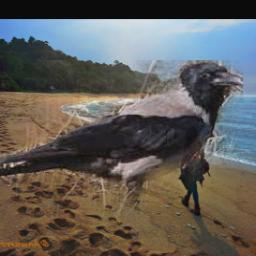Crow: (0, 60, 243, 217)
